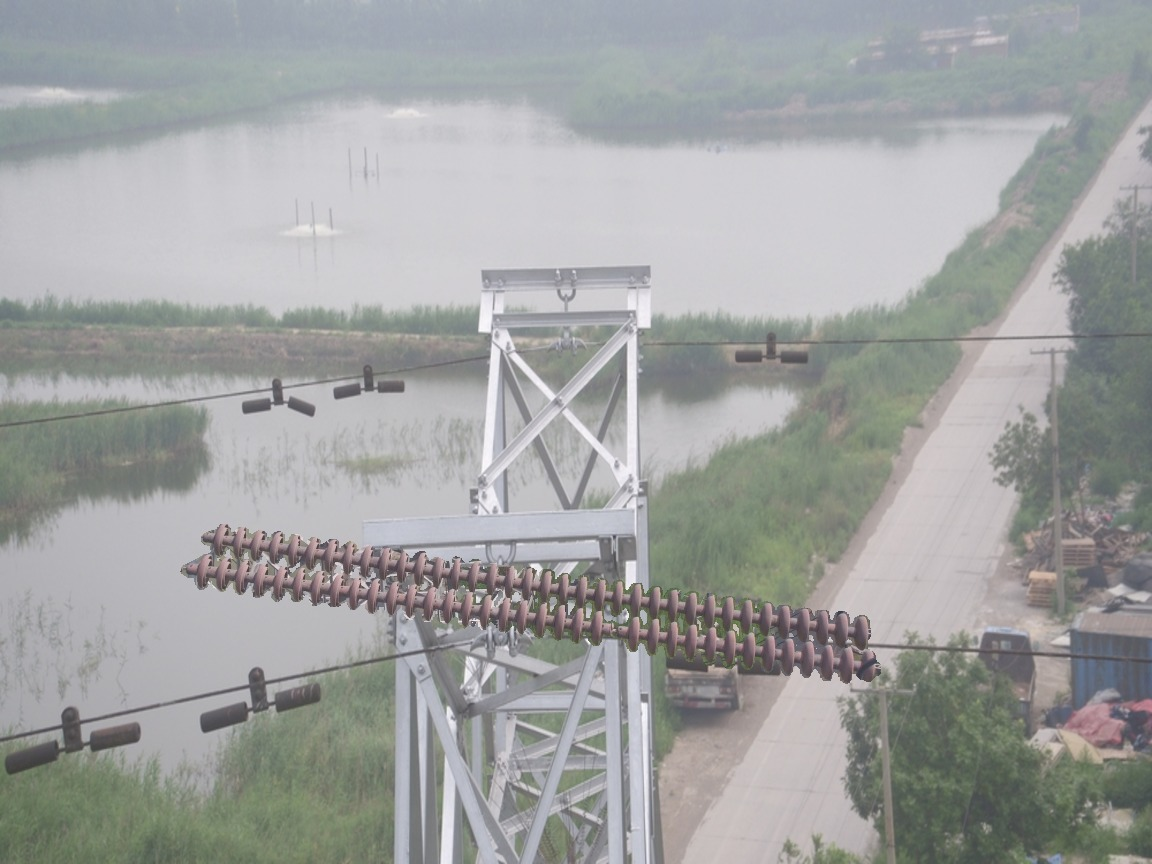defect: (585, 606, 645, 654)
